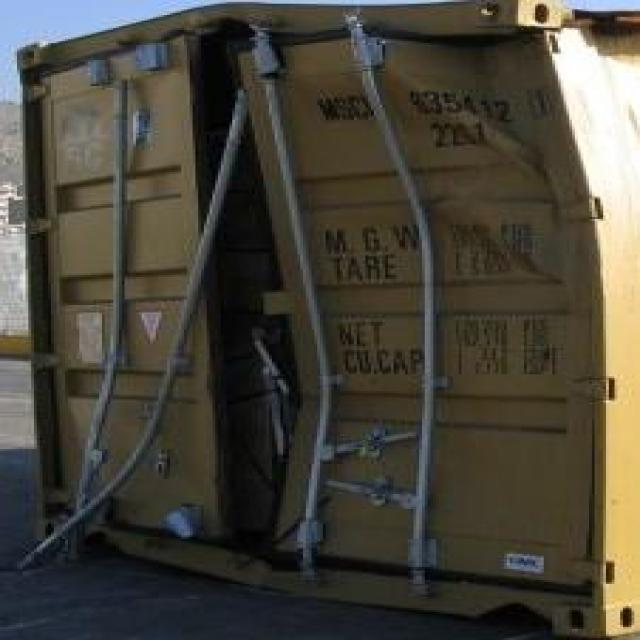dent: (222, 3, 613, 562)
